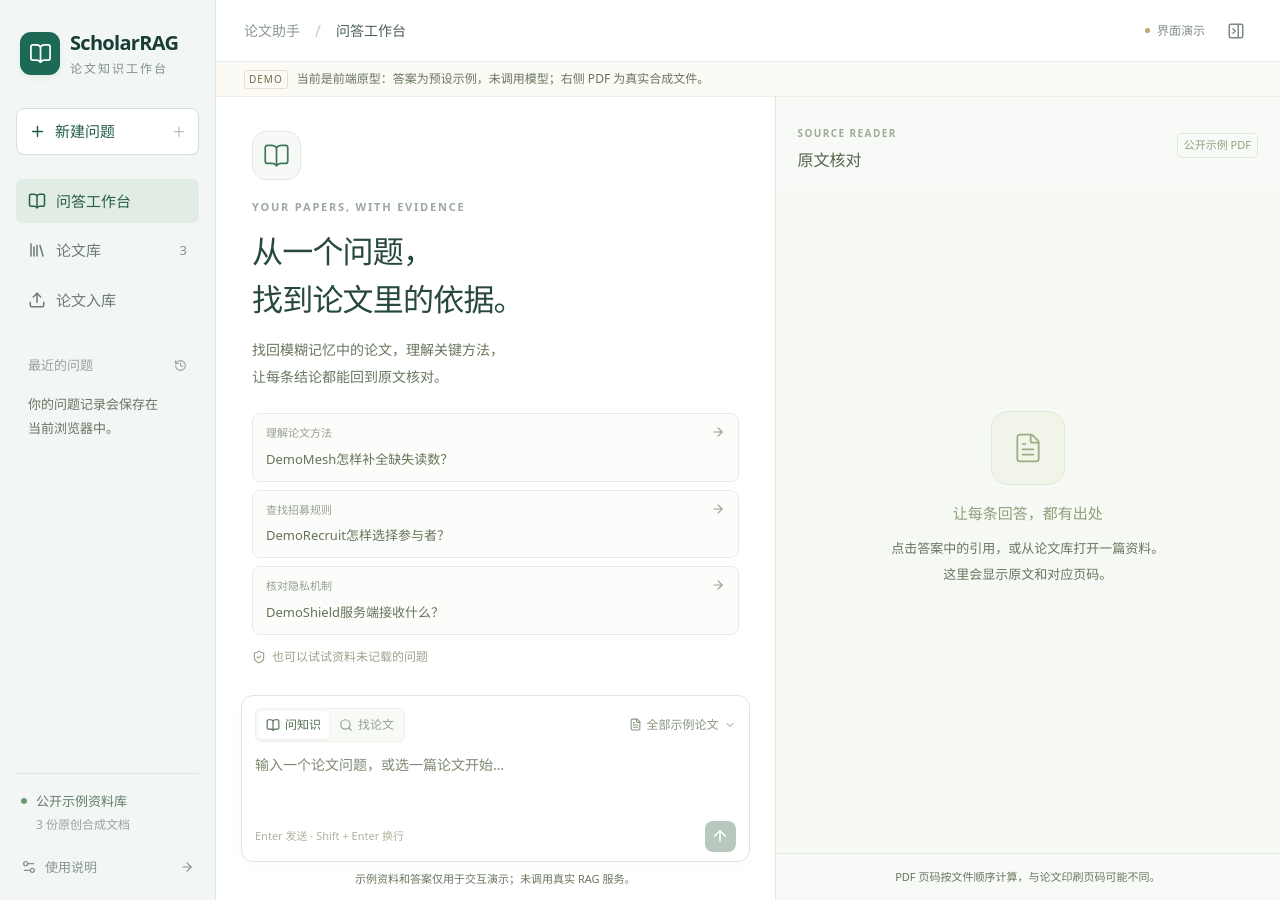
Test: workspace request lifecycle › does not publish a late result after starting a new question
Type "DemoMesh怎样补全缺失读数？" into the text box named "输入你的论文问题". click: (495, 786)
box: [255,752,736,820]
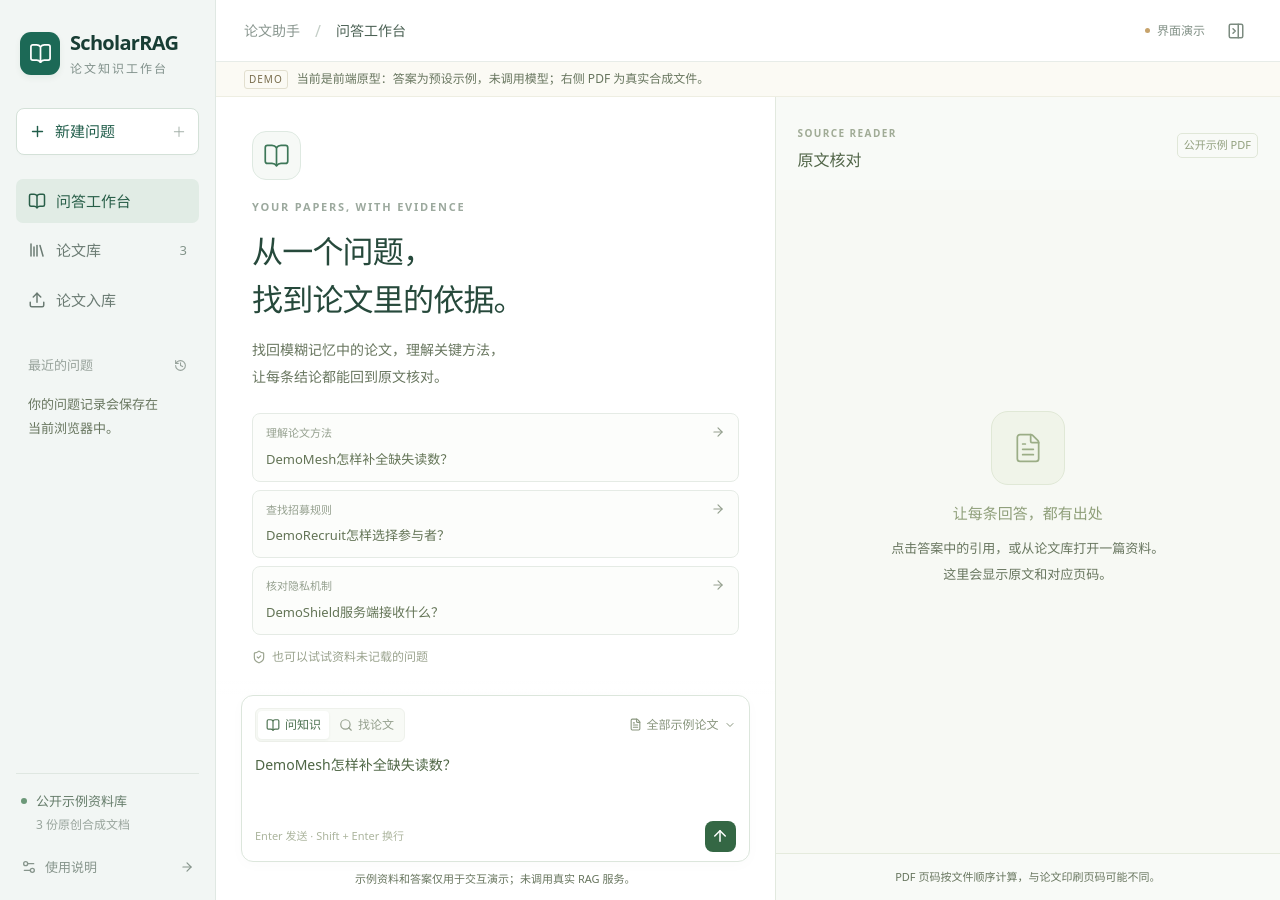
Click the button named "提交问题". click: (720, 836)
box: [705,820,736,852]
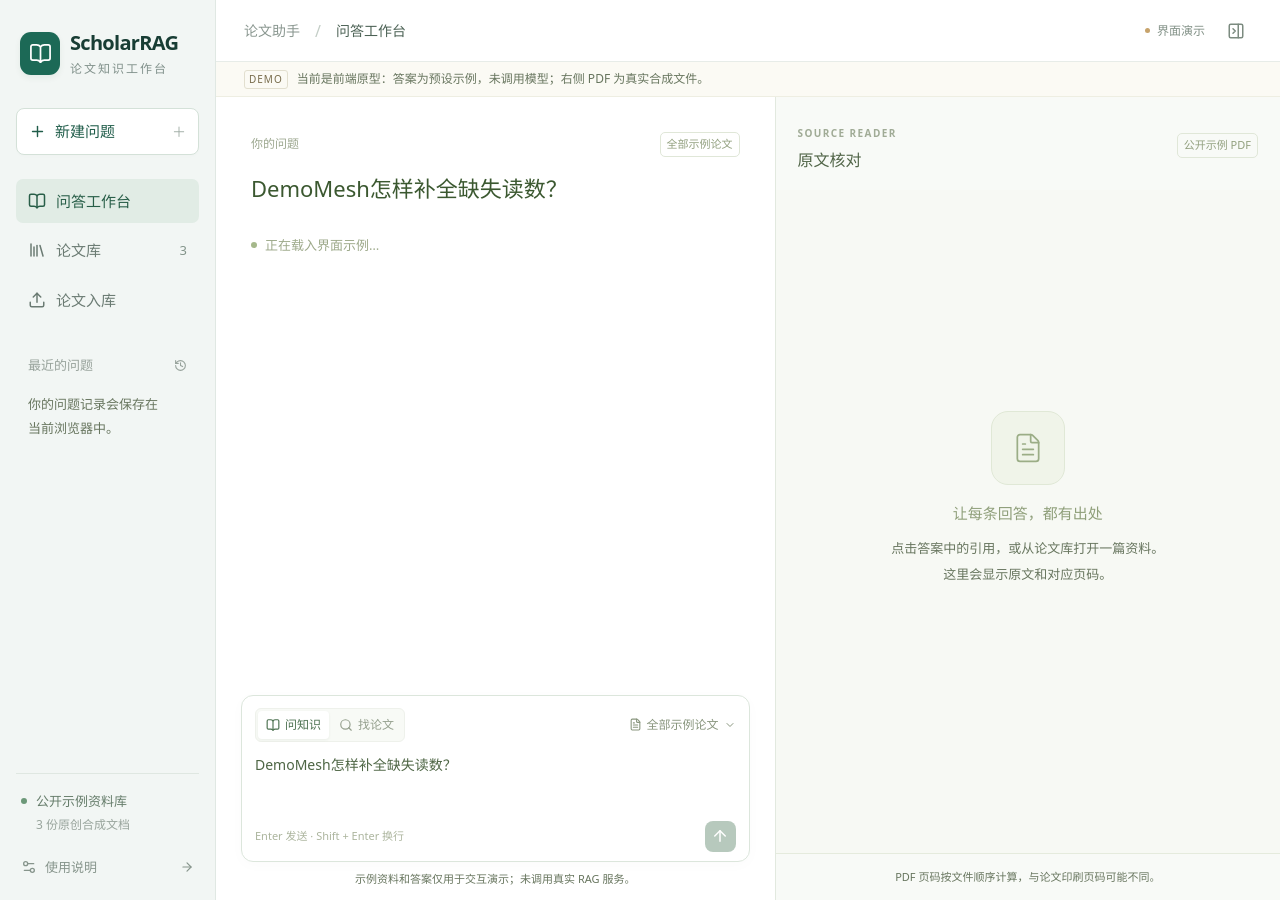
Click the button "新建问题 ＋". click: (108, 131)
box: [16,108,199,154]
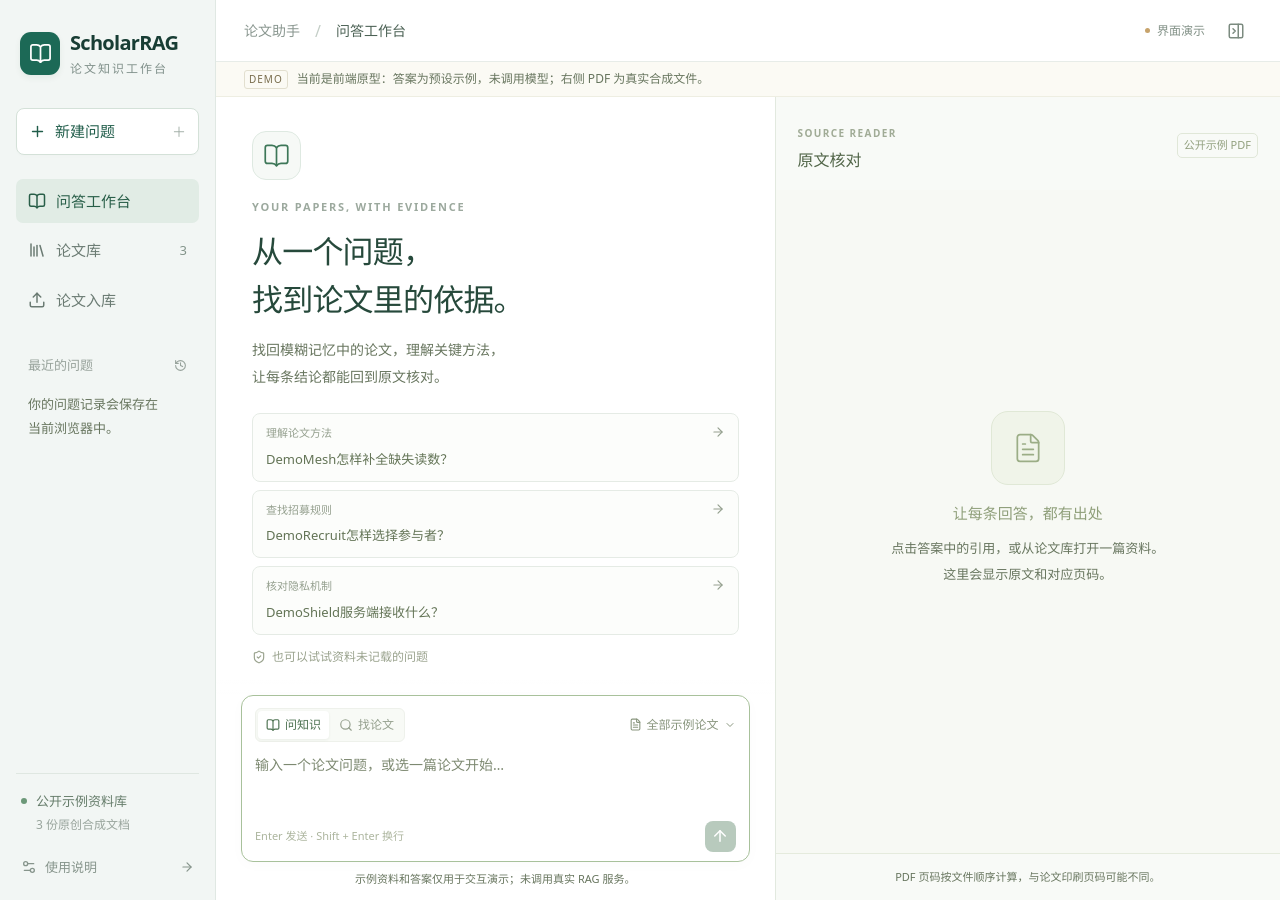
Now the text "正在载入界面示例…" is gone
